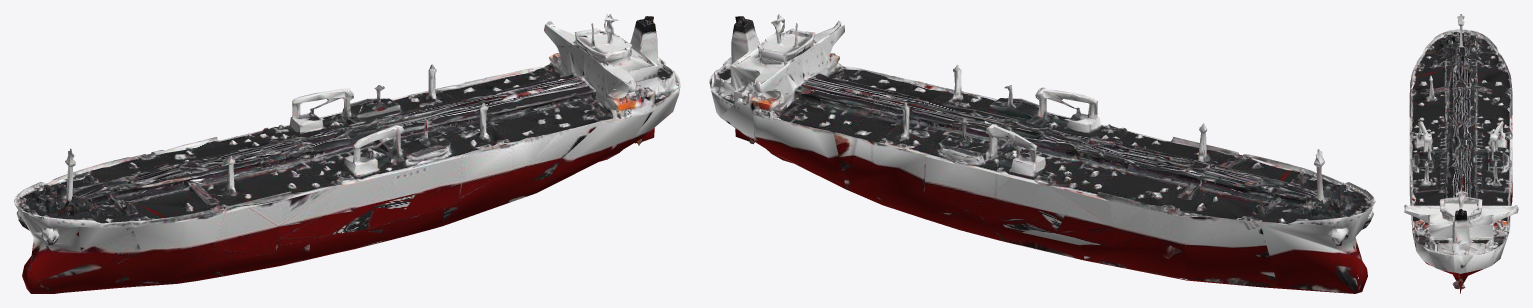
Rendered from vlcc-tanker-meshy-textured-detail-v3.glb.
The picture shows the model from 3 angles, left to right: view 1: azimuth 30°, elevation 25°; view 2: azimuth 150°, elevation 25°; view 3: azimuth 270°, elevation 25°; orthographic projection. The views are drawn at different scales.
Size of the model in its own units: 1.9 by 0.4054 by 0.4271.
Materials: 1 (1 with a texture image).
